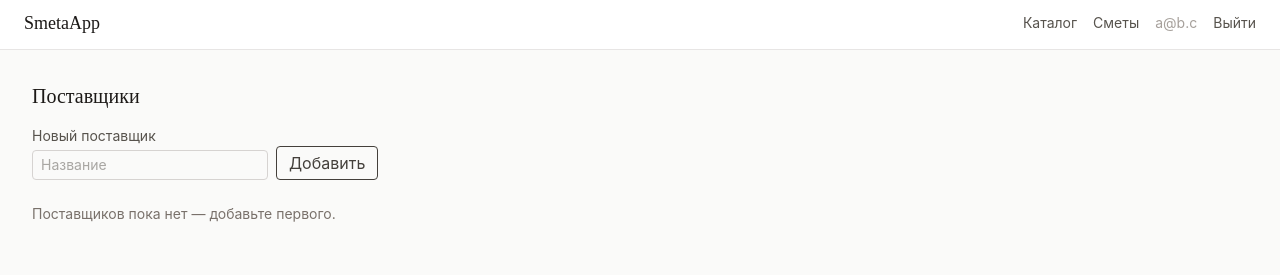
Scenario: SuppliersPage › shows 409 message on duplicate name
Expected: the text "Поставщиков пока нет — добавьте первого." is shown, [32,205,336,222]
Step 1. Type "Optimus" into the field with placeholder "Название" → (150,165), box [32,150,268,180]
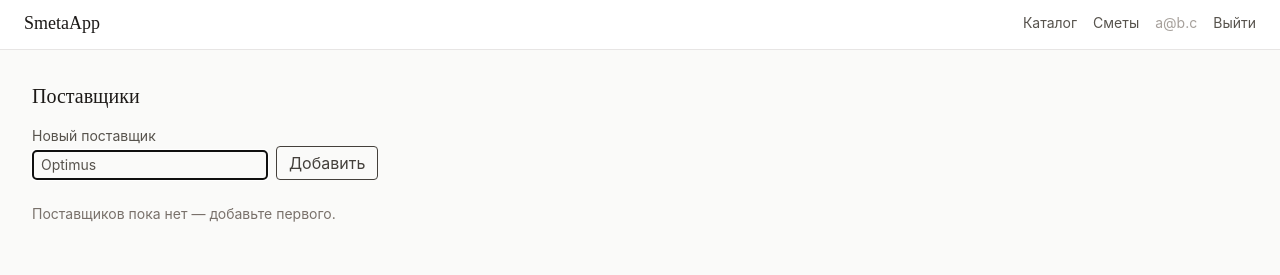
Step 2. Click the button "Добавить" → (327,163), box [276,146,378,180]
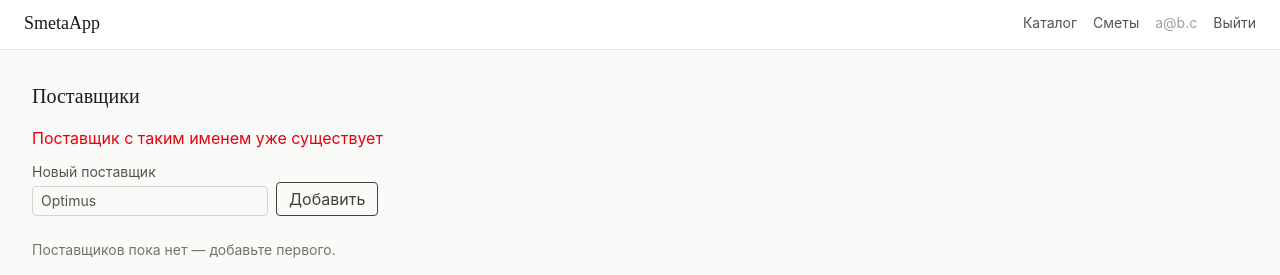
Expected: the text "Поставщик с таким именем уже существует" is shown, [32,128,383,148]
